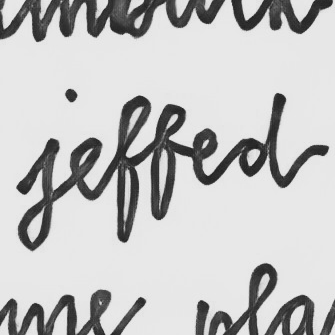d: (233, 90, 289, 179)
e: (67, 134, 105, 202), (190, 126, 223, 187)
f: (112, 93, 153, 245), (146, 102, 188, 223)
j: (13, 135, 61, 252)
